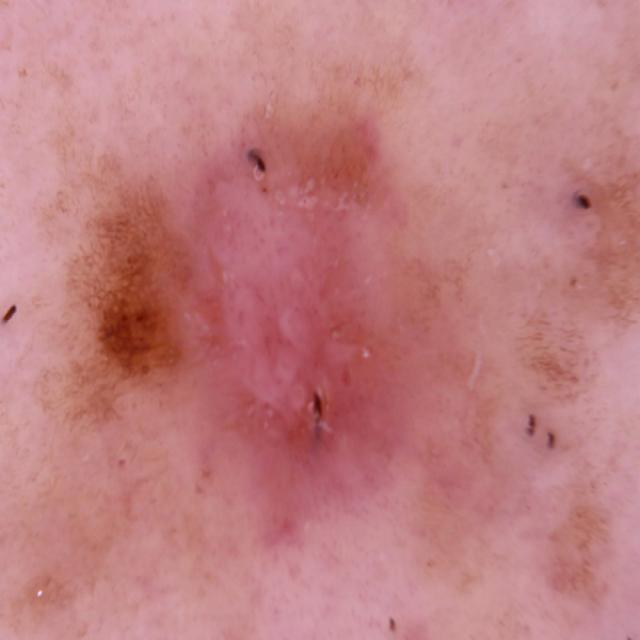Skin-Cancer Pigmented benign keratosis: (67, 52, 640, 630)
